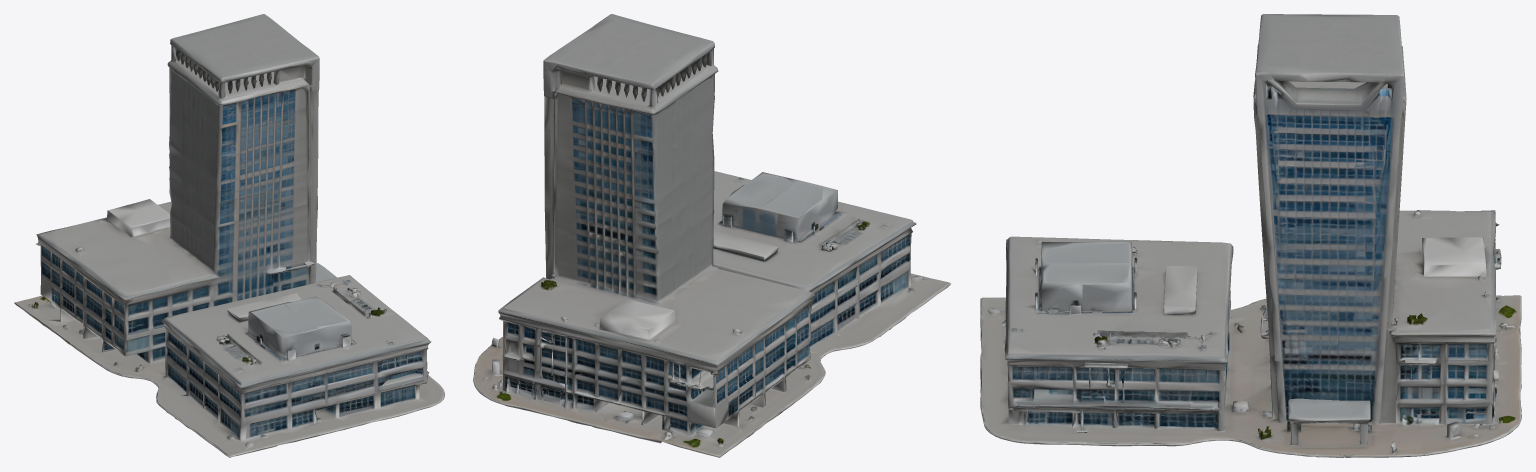
Rendered from NorthwindLabs_Higgsfield_Raw.glb.
3 views of the same model, side by side, from view 1: azimuth 30°, elevation 25°; view 2: azimuth 150°, elevation 25°; view 3: azimuth 270°, elevation 25° (orthographic). The views are drawn at different scales.
Visible parts, largest first — view 1: tripo_node_347a71d0-1713-4fc1-b8ac-2216aefab784; view 2: tripo_node_347a71d0-1713-4fc1-b8ac-2216aefab784; view 3: tripo_node_347a71d0-1713-4fc1-b8ac-2216aefab784.
Boxes of the visible parts, left/top/right/bottom form: tripo_node_347a71d0-1713-4fc1-b8ac-2216aefab784: left=14, top=14, right=444, bottom=457; tripo_node_347a71d0-1713-4fc1-b8ac-2216aefab784: left=473, top=14, right=951, bottom=457; tripo_node_347a71d0-1713-4fc1-b8ac-2216aefab784: left=980, top=14, right=1521, bottom=457.
Size of the model in its own units: 0.6884 by 0.7078 by 0.9809.
1 material, 1 textured.
